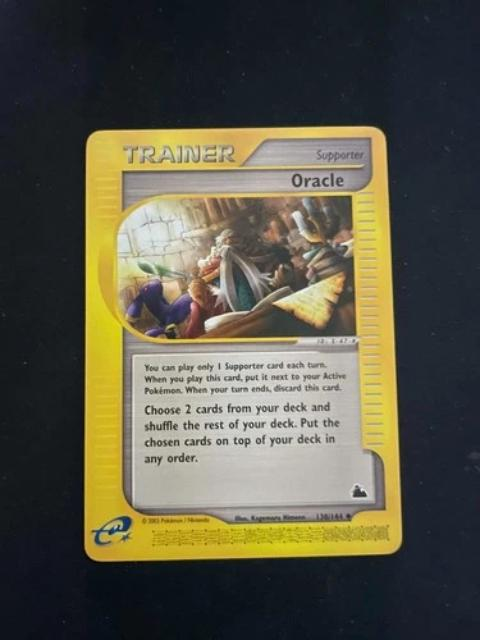Card: (79, 123, 408, 567)
Name: (287, 170, 351, 193)
